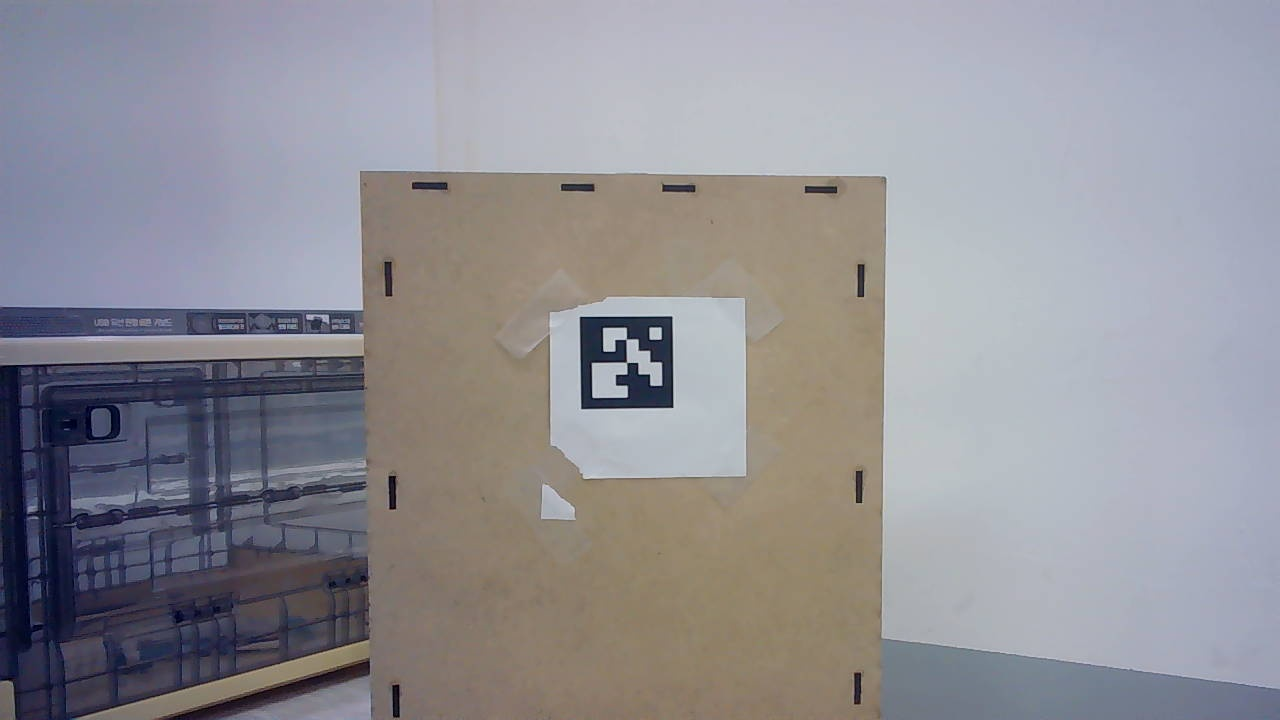aruco: (535, 288, 756, 488)
